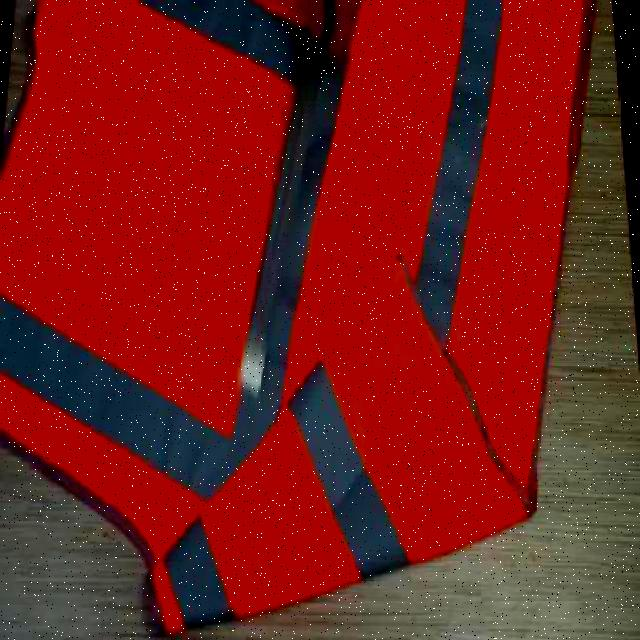Mask: (0, 0, 598, 637)
